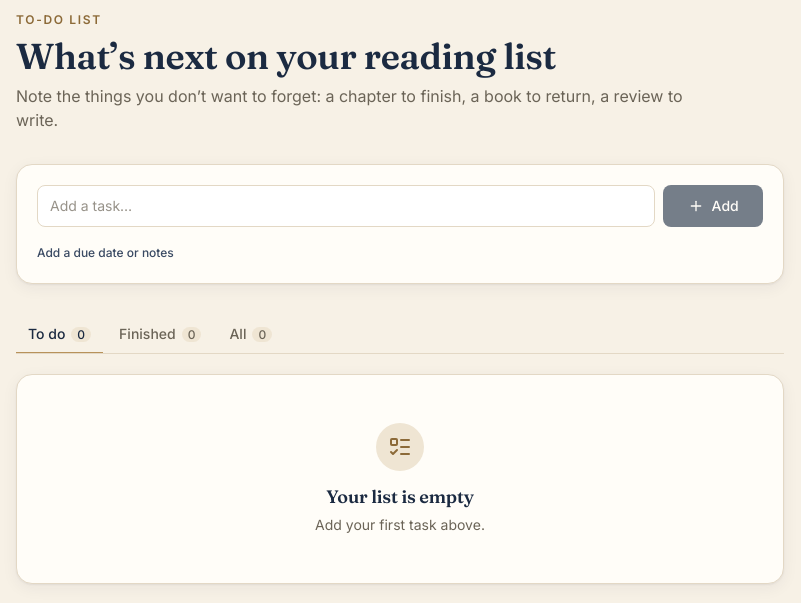
it: To-do list › adds a task straight away and swaps in the saved one
Expected: the heading "Your list is empty" is shown, [326,483,474,511]
In the field named "New task": (346, 206) [37,185,655,227], type "Finish chapter 3"
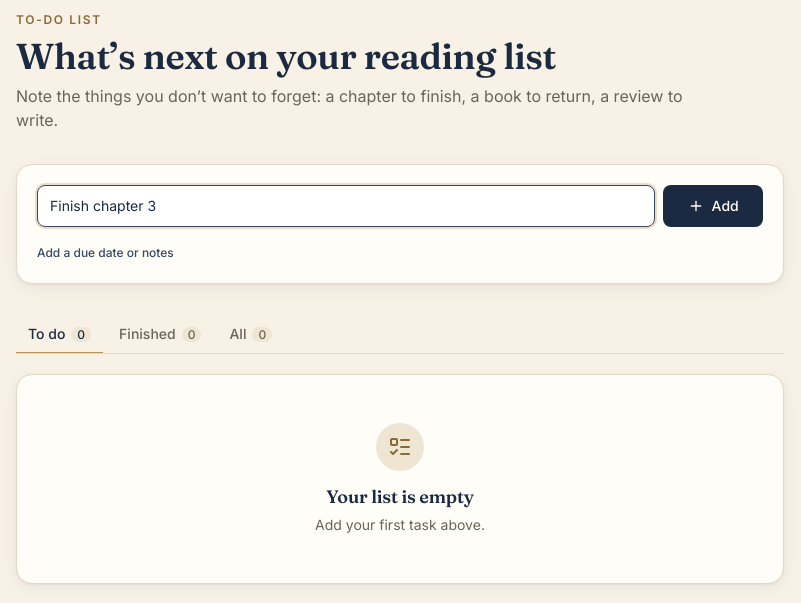
Click the button "Add": (713, 206) [663,185,763,227]
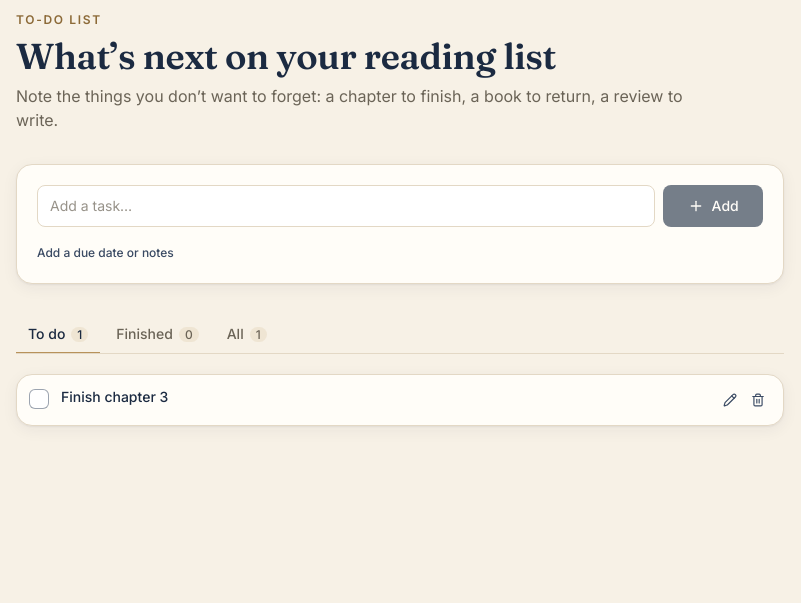
Result: the text "Finish chapter 3" is shown at [61,388,168,405]
